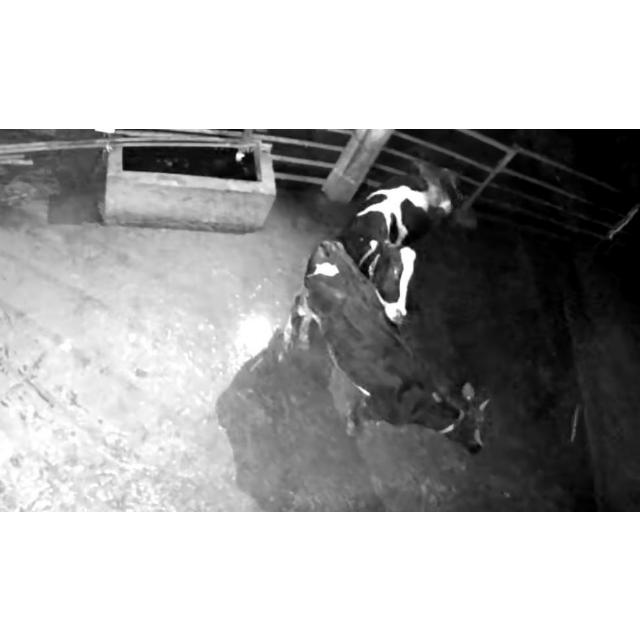propping: (316, 222, 444, 350)
